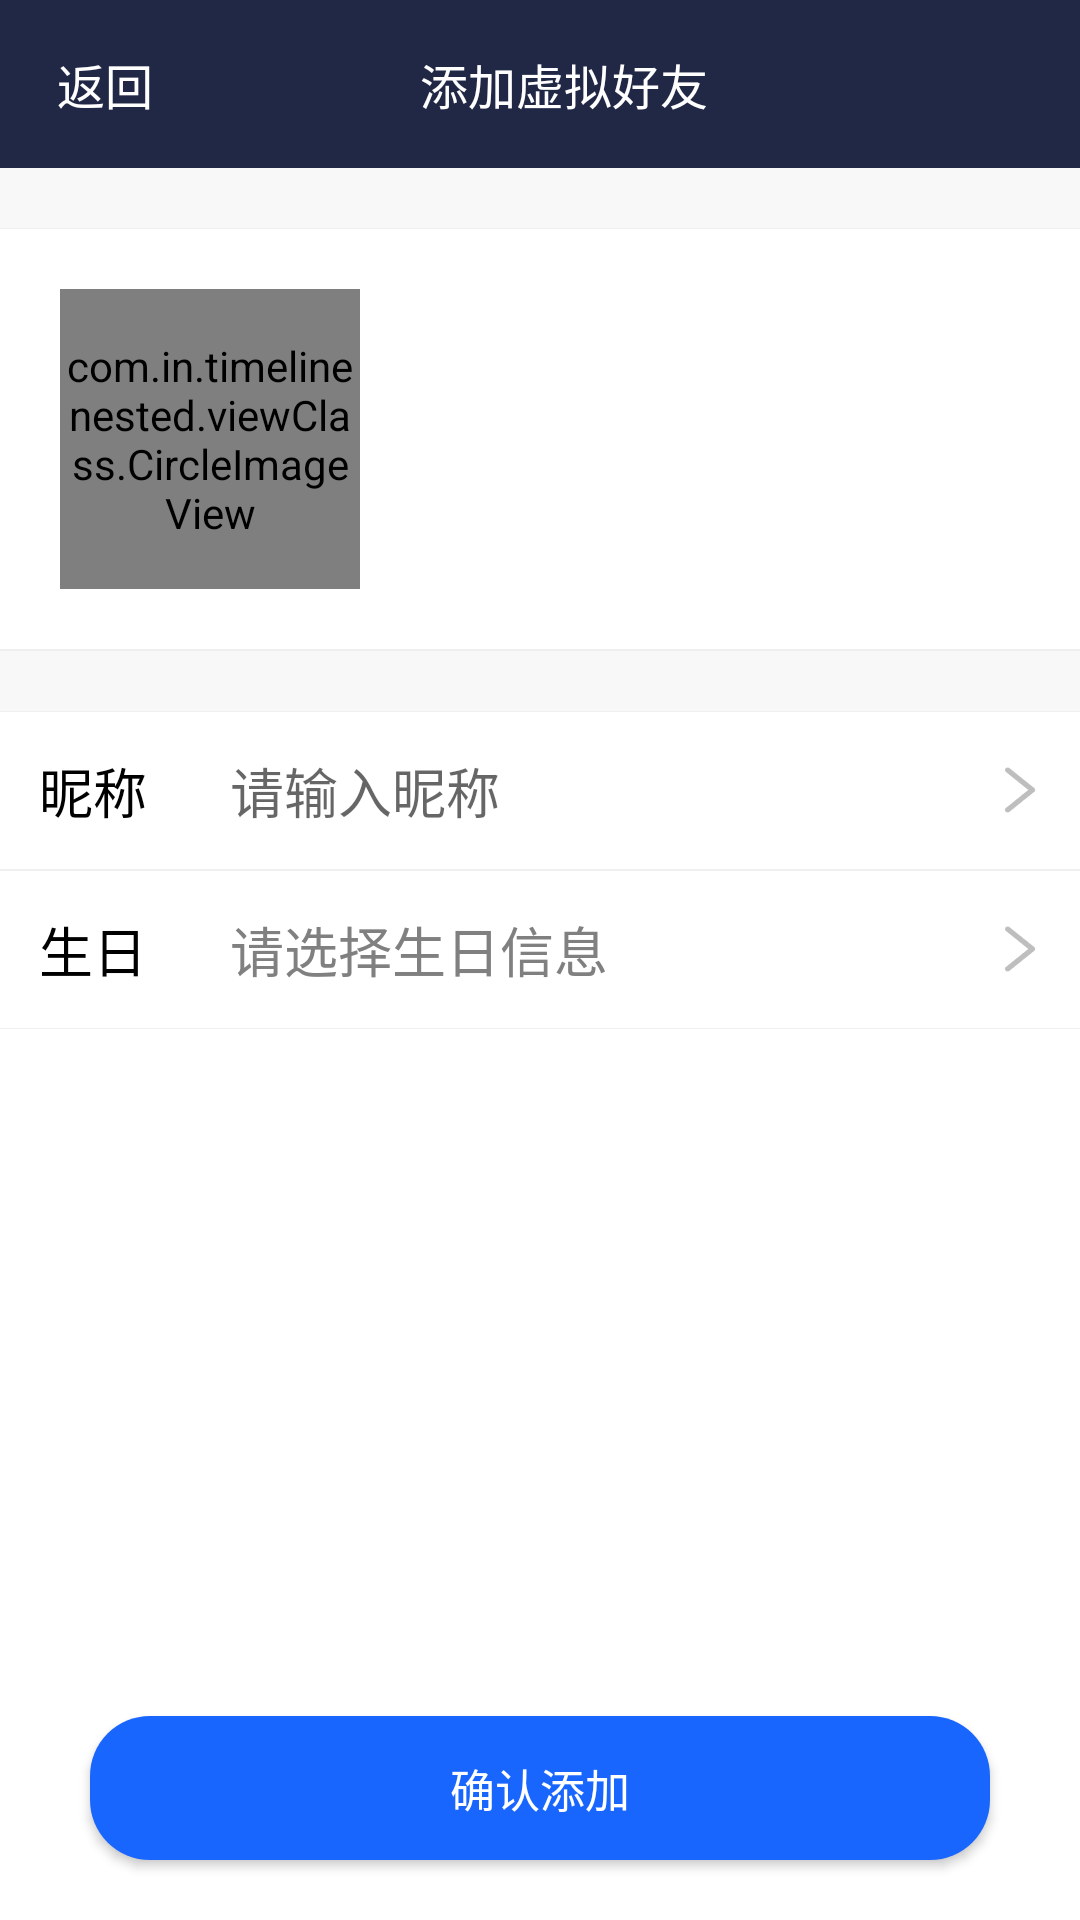

Named icons in this screenshot (1080x1920) and their centers, point (x, y):
right: point (1020, 790), point (1020, 949)
